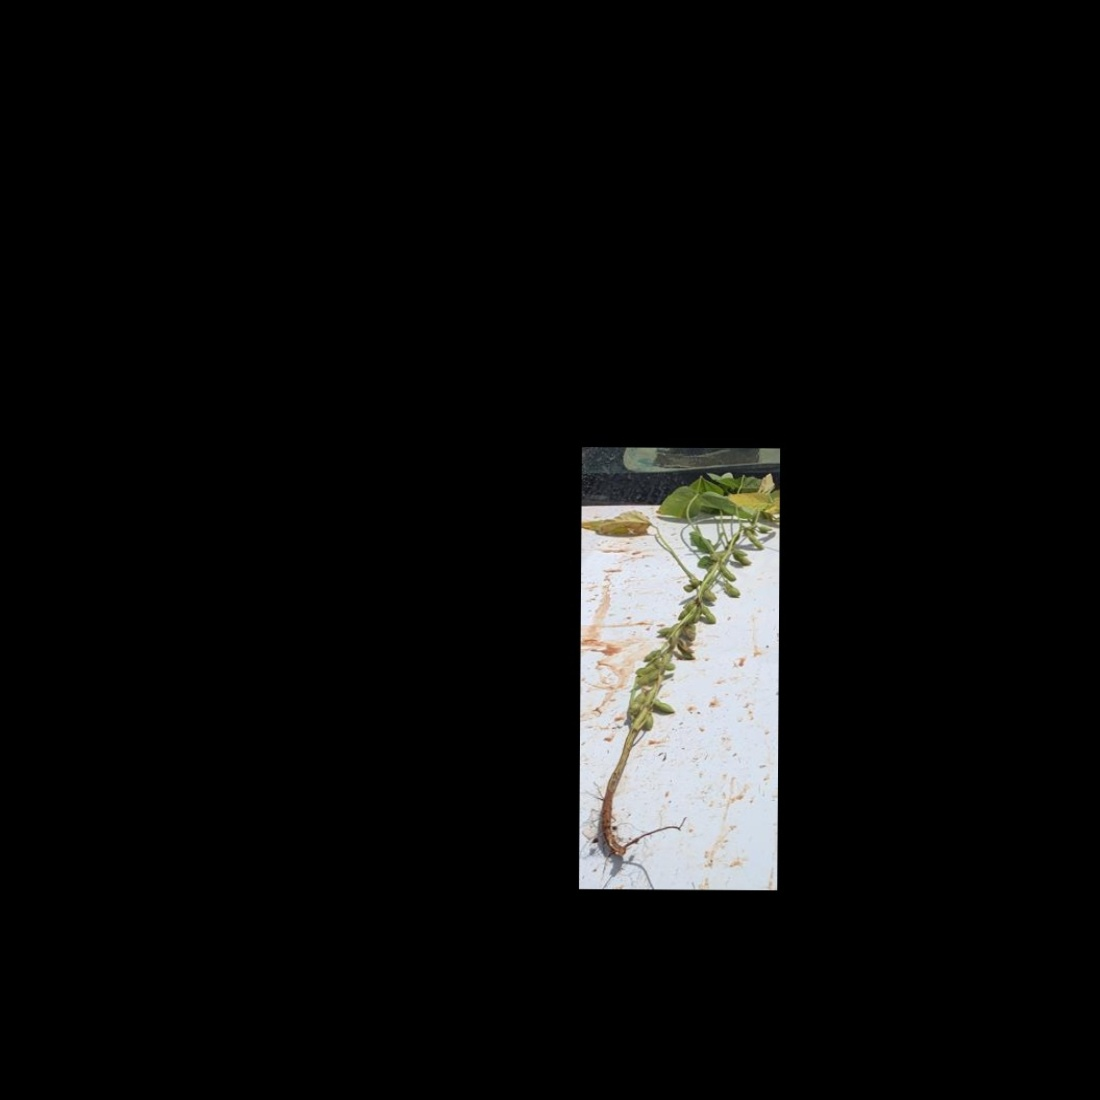pod: (645, 691, 677, 717), (715, 555, 737, 584), (719, 576, 743, 601), (698, 600, 718, 629), (628, 690, 648, 717), (742, 529, 765, 552)
soy: (586, 464, 776, 851)
